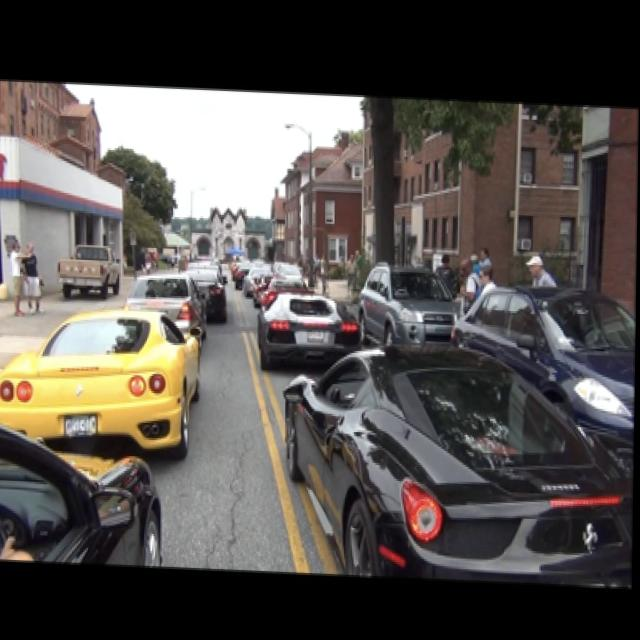licence: (65, 410, 99, 437)
